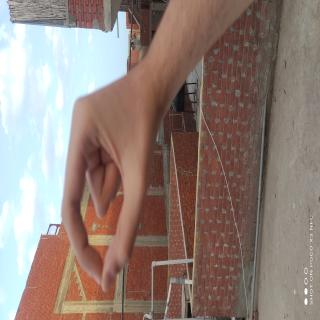FAA: (10, 121, 117, 320)
